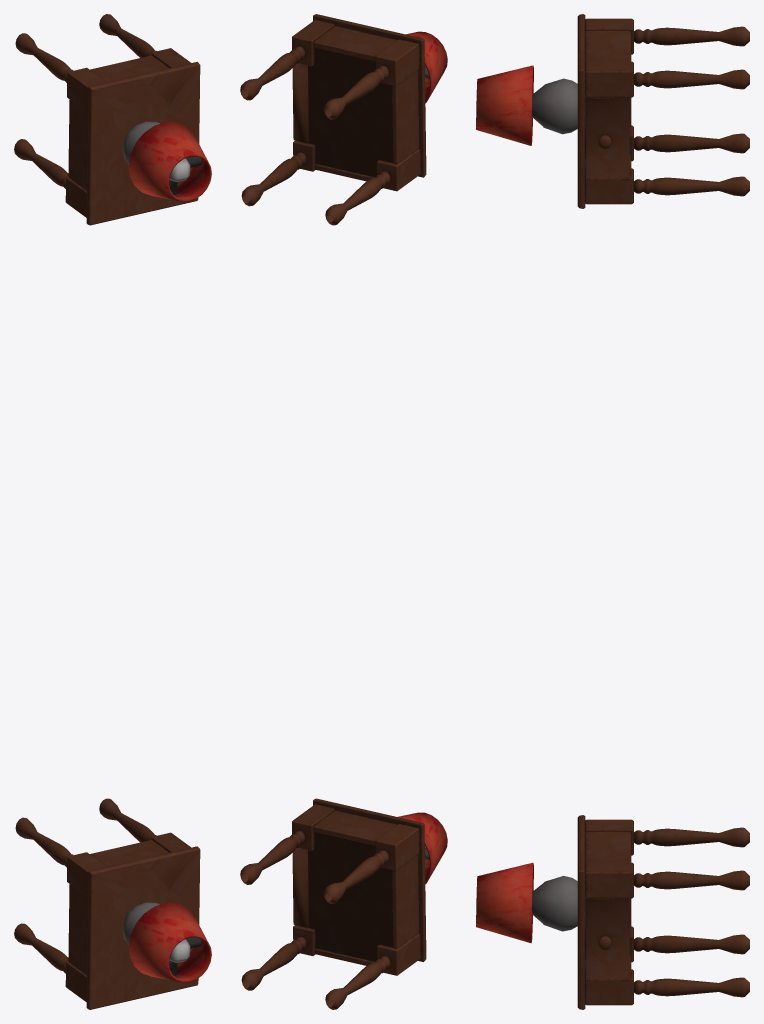
File: Abajures 1.fbx
The picture shows the model from 3 angles, left to right: view 1: azimuth 30°, elevation 25°; view 2: azimuth 150°, elevation 25°; view 3: azimuth 270°, elevation 25°; orthographic projection. The views are drawn at different scales.
Visible parts, largest first — view 1: Mesa_Cama.001, Mesa_Cama.003, Abajur.001, Abajur.005; view 2: Mesa_Cama.003, Mesa_Cama.001, Abajur.001, Abajur.005; view 3: Mesa_Cama.003, Mesa_Cama.001, Abajur.001, Abajur.005.
Part boxes in pixels (x1=…): Mesa_Cama.001: x1=14, y1=798, x2=200, y2=1009; Mesa_Cama.003: x1=14, y1=14, x2=200, y2=225; Abajur.001: x1=122, y1=902, x2=211, y2=982; Abajur.005: x1=122, y1=121, x2=211, y2=201; Mesa_Cama.003: x1=240, y1=14, x2=426, y2=225; Mesa_Cama.001: x1=240, y1=798, x2=426, y2=1009; Abajur.001: x1=398, y1=812, x2=447, y2=884; Abajur.005: x1=406, y1=31, x2=447, y2=103; Mesa_Cama.003: x1=577, y1=14, x2=749, y2=208; Mesa_Cama.001: x1=577, y1=815, x2=749, y2=1009; Abajur.001: x1=476, y1=862, x2=577, y2=943; Abajur.005: x1=476, y1=65, x2=577, y2=145.
Size of the model in its own units: 53.14 by 400 by 105.
2 materials, 2 textured.
